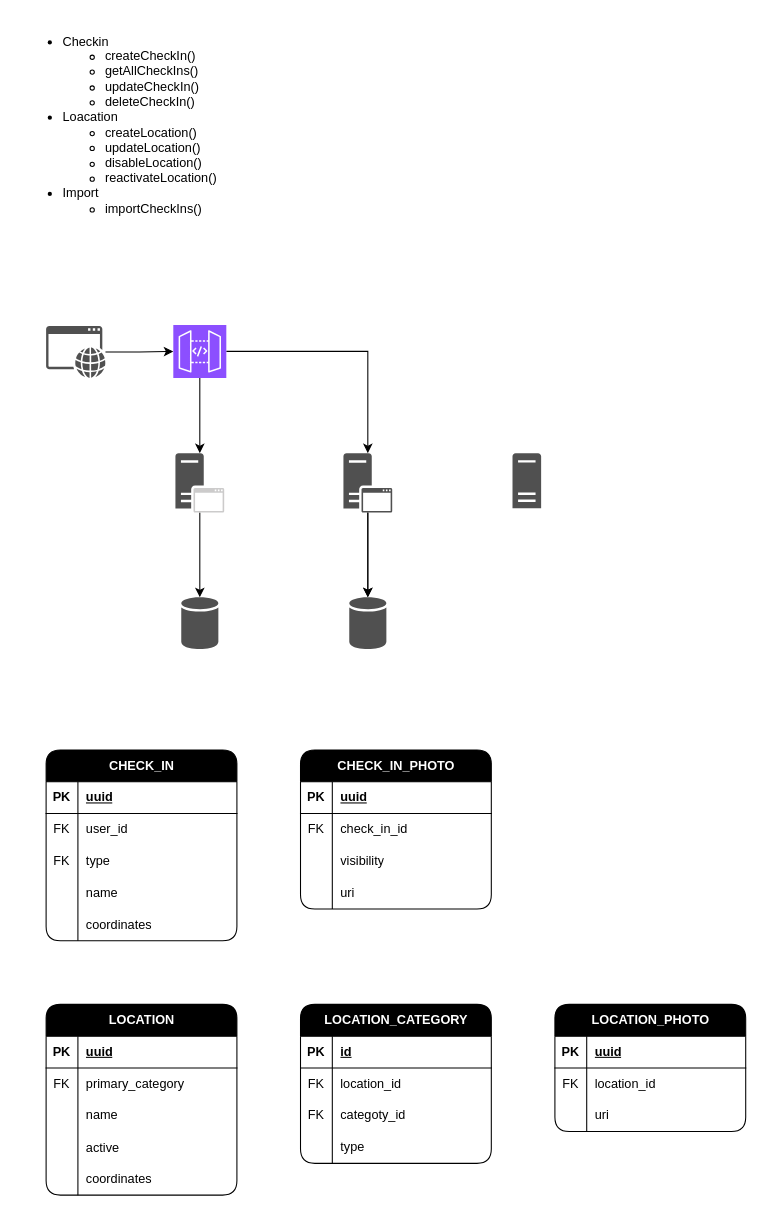
This 764x1214 diagram has some shape labels left out. The centre of each missing label's shape, as x and y in pixels:
Check in service: point (367, 482)
Import service: point (526, 480)
Location service: point (199, 482)
